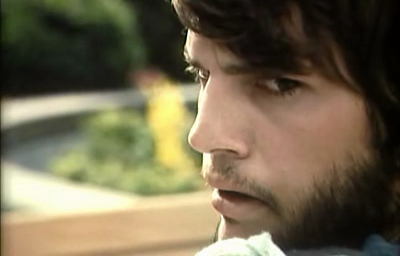ecu: (1, 1, 400, 256)
face: (182, 28, 368, 246)
person: (170, 1, 400, 256)
